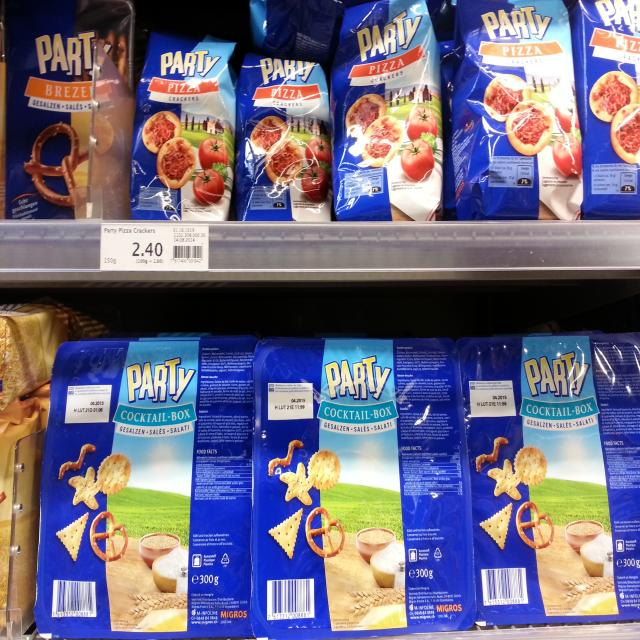Snacks: (252, 340, 478, 640), (32, 340, 257, 640), (453, 333, 640, 626), (447, 0, 582, 225), (6, 1, 133, 221), (332, 1, 446, 223), (133, 32, 236, 220), (236, 55, 332, 221), (574, 0, 640, 219)
